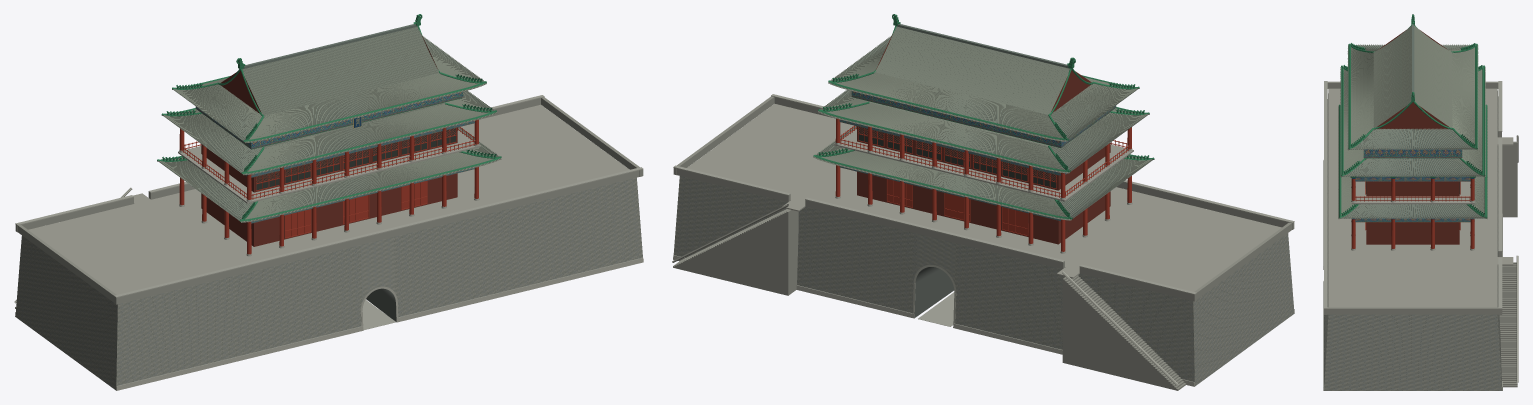
Rendered from qianmen-detail.glb.
3 renders of one model, left to right at view 1: azimuth 30°, elevation 25°; view 2: azimuth 150°, elevation 25°; view 3: azimuth 270°, elevation 25°, orthographic. The views are drawn at different scales.
Parts seen in each view (by area): view 1: qianmen tile.001, qianmen deck.001, qianmen brick2.001, qianmen brick0, qianmen brick1.001, qianmen brick3, qianmen roof.001, qianmen red.001, qianmen stone.001, qianmen redDark.001, qianmen mortar.001, qianmen gold.001 (+3 smaller); view 2: qianmen brick2.001, qianmen tile.001, qianmen deck.001, qianmen brick1.001, qianmen brick3, qianmen brick0, qianmen roof.001, qianmen red.001, qianmen stone.001, qianmen redDark.001, qianmen mortar.001, qianmen gold.001 (+3 smaller); view 3: qianmen tile.001, qianmen deck.001, qianmen brick2.001, qianmen roof.001, qianmen redDark.001, qianmen brick0, qianmen brick1.001, qianmen brick3, qianmen gold.001, qianmen stone.001, qianmen frieze.001, qianmen red.001 (+1 smaller).
Part boxes in pixels (left/top/right/bottom): qianmen tile.001: left=157, top=27, right=501, bottom=222; qianmen deck.001: left=28, top=104, right=629, bottom=294; qianmen brick2.001: left=15, top=97, right=643, bottom=386; qianmen brick0: left=15, top=178, right=642, bottom=389; qianmen brick1.001: left=16, top=177, right=642, bottom=388; qianmen brick3: left=16, top=178, right=642, bottom=390; qianmen roof.001: left=160, top=24, right=497, bottom=220; qianmen red.001: left=179, top=119, right=478, bottom=254; qianmen stone.001: left=14, top=95, right=643, bottom=390; qianmen redDark.001: left=201, top=34, right=457, bottom=246; qianmen mortar.001: left=17, top=179, right=642, bottom=388; qianmen gold.001: left=157, top=14, right=501, bottom=221; qianmen brick2.001: left=673, top=96, right=1294, bottom=390; qianmen tile.001: left=813, top=26, right=1154, bottom=220; qianmen deck.001: left=687, top=103, right=1281, bottom=291; qianmen brick1.001: left=675, top=177, right=1294, bottom=384; qianmen brick3: left=675, top=176, right=1294, bottom=384; qianmen brick0: left=673, top=176, right=1294, bottom=386; qianmen roof.001: left=818, top=24, right=1152, bottom=218; qianmen red.001: left=835, top=118, right=1131, bottom=251; qianmen stone.001: left=672, top=94, right=1294, bottom=386; qianmen redDark.001: left=857, top=34, right=1110, bottom=244; qianmen mortar.001: left=675, top=177, right=1293, bottom=384; qianmen gold.001: left=813, top=14, right=1154, bottom=219; qianmen tile.001: left=1338, top=26, right=1487, bottom=218; qianmen deck.001: left=1328, top=88, right=1513, bottom=307; qianmen brick2.001: left=1324, top=81, right=1517, bottom=390; qianmen roof.001: left=1341, top=24, right=1484, bottom=218; qianmen redDark.001: left=1366, top=29, right=1459, bottom=244; qianmen brick0: left=1324, top=92, right=1501, bottom=390; qianmen brick1.001: left=1324, top=93, right=1501, bottom=390; qianmen brick3: left=1324, top=91, right=1501, bottom=390; qianmen gold.001: left=1339, top=14, right=1487, bottom=218; qianmen stone.001: left=1323, top=81, right=1518, bottom=390; qianmen frieze.001: left=1355, top=149, right=1470, bottom=222; qianmen red.001: left=1351, top=178, right=1474, bottom=248.
Bounding box in the file's own units: 0.9502 × 0.4365 × 0.3449.
18 materials, 1 textured.
